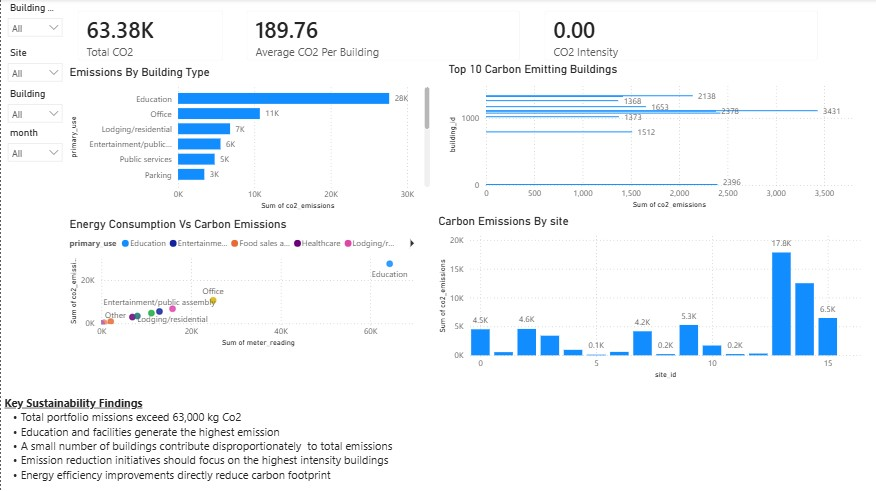

What the dashboard file says about the page in this screenshot:
{"tool":"powerbi","page":{"name":"Sustainability and Carbon Emissions","canvas":[1280,720],"ordinal":2},"visuals":[{"type":"slicer","title":"Building Type","fields":{"Values":["final_energy_analysis.primary_use"]},"box":[0,0,100,66.1],"z":0,"group":"g5"},{"type":"group","id":"g1","title":"Group 4","box":[95.8,0,1172,560.8],"z":0},{"type":"group","id":"g2","title":"Group 1","box":[95.8,0,1117.7,107.3],"z":0,"group":"g1"},{"type":"cardVisual","fields":{"Data":["final_energy_analysis.Total CO2"]},"box":[95.8,0,247.6,107.3],"z":0,"group":"g2"},{"type":"clusteredBarChart","title":"Emissions By Building Type","fields":{"Category":["final_energy_analysis.primary_use"],"Y":["Sum(final_energy_analysis.co2_emissions)"]},"box":[96,96,537.5,216.7],"z":0,"group":"g4"},{"type":"scatterChart","title":"Energy Consumption Vs Carbon Emissions","fields":{"X":["Sum(final_energy_analysis.meter_reading)"],"Y":["Sum(final_energy_analysis.co2_emissions)"],"Series":["final_energy_analysis.primary_use"]},"box":[95.8,318.8,526,194.8],"z":0,"group":"g3"},{"type":"cardVisual","fields":{"Data":["final_energy_analysis.Average CO2 Per Building"]},"box":[343.8,0,434.8,107.2],"z":1000,"group":"g2"},{"type":"group","id":"g3","title":"Group 3","box":[95.8,91.9,1172,468.9],"z":1000,"group":"g1"},{"type":"clusteredBarChart","title":"Top 10 Carbon Emitting Buildings","fields":{"Y":["Sum(final_energy_analysis.co2_emissions)"],"Category":["final_energy_analysis.building_id"]},"box":[651.2,91.9,616.7,218.8],"z":1000,"group":"g4"},{"type":"slicer","fields":{"Values":["final_energy_analysis.building_id"]},"box":[0,126.3,100,56.1],"z":1000,"group":"g5"},{"type":"columnChart","title":"Carbon Emissions By site","fields":{"Category":["final_energy_analysis.site_id"],"Y":["Sum(final_energy_analysis.co2_emissions)"]},"box":[635.6,314.9,628.1,245.8],"z":1000,"group":"g3"},{"type":"textbox","box":[0,575.8,1247.9,143.5],"z":1000},{"type":"cardVisual","fields":{"Data":["final_energy_analysis.CO2 Intensity"]},"box":[778.7,0,434.8,107.2],"z":2000,"group":"g2"},{"type":"group","id":"g4","title":"Group 2","box":[96,91.9,1171.9,220.8],"z":2000,"group":"g3"},{"type":"slicer","fields":{"Values":["final_energy_analysis.month"]},"box":[0,182.4,100,60.1],"z":2000,"group":"g5"},{"type":"group","id":"g5","title":"Group 5","box":[0,0,100,242.5],"z":2005},{"type":"slicer","fields":{"Values":["final_energy_analysis.site_id"]},"box":[0,66.1,100,60.1],"z":3000,"group":"g5"}]}

Visuals, with their boxes in screenshot pixels (x1, y1, x2, y2), scaled from the page's 1280x720 canvas onto the 876x491 screenshot:
"Building Type" slicer: l=0, t=0, r=68, b=45
"Group 4" group: l=66, t=0, r=868, b=382
"Group 1" group: l=66, t=0, r=830, b=73
cardVisual - final_energy_analysis.Total CO2: l=66, t=0, r=235, b=73
"Emissions By Building Type" clusteredBarChart: l=66, t=65, r=434, b=213
"Energy Consumption Vs Carbon Emissions" scatterChart: l=66, t=217, r=426, b=350
cardVisual - final_energy_analysis.Average CO2 Per Building: l=235, t=0, r=533, b=73
"Group 3" group: l=66, t=63, r=868, b=382
"Top 10 Carbon Emitting Buildings" clusteredBarChart: l=446, t=63, r=868, b=212
slicer - final_energy_analysis.building_id: l=0, t=86, r=68, b=124
"Carbon Emissions By site" columnChart: l=435, t=215, r=865, b=382
textbox: l=0, t=393, r=854, b=490
cardVisual - final_energy_analysis.CO2 Intensity: l=533, t=0, r=830, b=73
"Group 2" group: l=66, t=63, r=868, b=213
slicer - final_energy_analysis.month: l=0, t=124, r=68, b=165
"Group 5" group: l=0, t=0, r=68, b=165
slicer - final_energy_analysis.site_id: l=0, t=45, r=68, b=86
